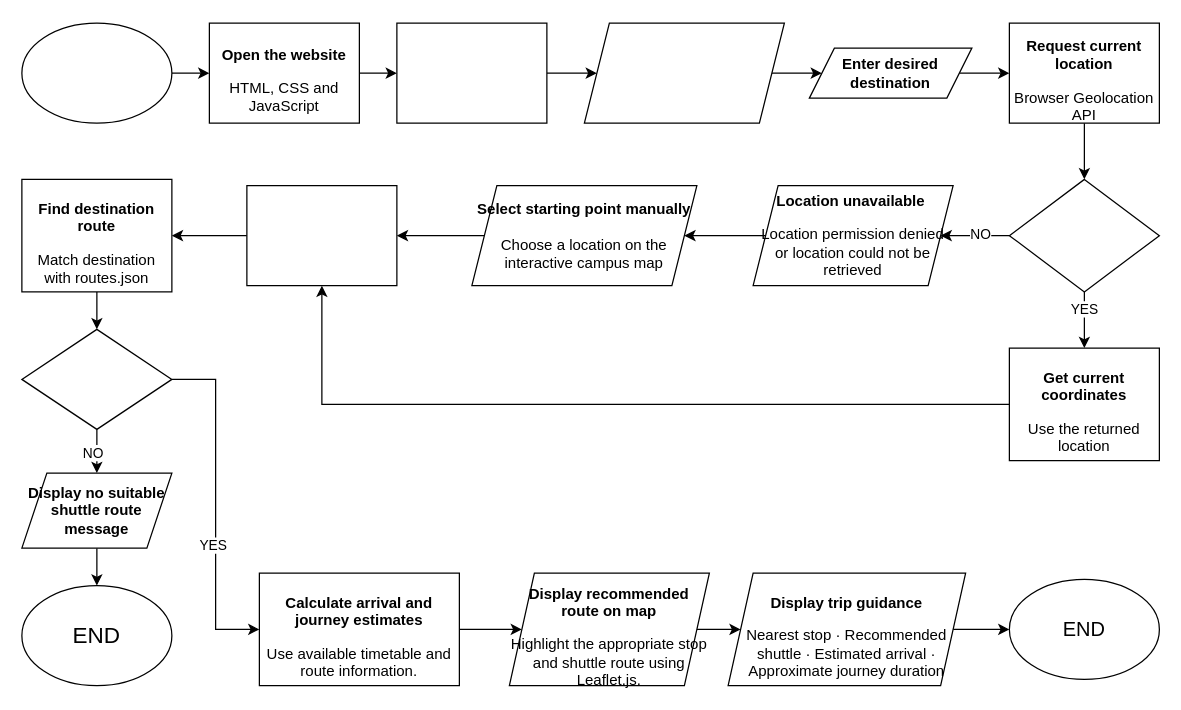
The diagram is 1181 pixels wide and 710 high, and some of its shapes have lost their labels. The shapes that lost their labels are listed below. From the top down, each one's centre as x and y in pixels, then its label:
pixel 96 72: Start
pixel 471 72: Load shuttle data Read stops.json and routes.json
pixel 683 72: Display interactive campus map Leaflet.js and OpenStreetMap
pixel 321 235: Find nearest shuttle stop Compare location with stops.json
pixel 1083 235: Current location available?
pixel 96 378: Suitable route found?
